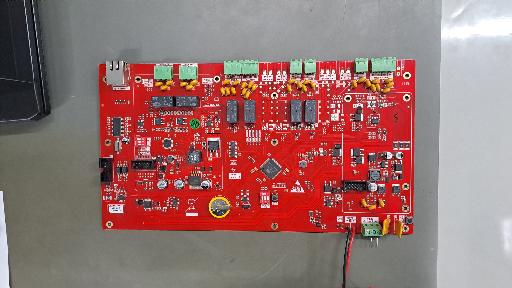var: (394, 219, 403, 237), (382, 218, 391, 235), (375, 83, 382, 93), (378, 199, 385, 208), (220, 87, 226, 96), (365, 79, 371, 88), (361, 199, 367, 208), (385, 82, 395, 87), (248, 80, 253, 90), (351, 80, 357, 88), (288, 78, 296, 84), (302, 79, 310, 85), (370, 84, 376, 92), (296, 81, 302, 89), (310, 81, 316, 89), (287, 84, 292, 93), (357, 78, 366, 83), (371, 79, 380, 84), (381, 88, 390, 93), (185, 85, 194, 90), (225, 87, 230, 96), (368, 205, 377, 210), (241, 88, 247, 95), (244, 92, 250, 99), (166, 80, 173, 86), (155, 81, 162, 87), (231, 87, 236, 95), (232, 80, 240, 85), (190, 80, 198, 85), (302, 85, 307, 93), (384, 78, 392, 83), (160, 85, 168, 90), (251, 84, 256, 91), (223, 80, 230, 85), (180, 82, 187, 87), (241, 82, 246, 88)
